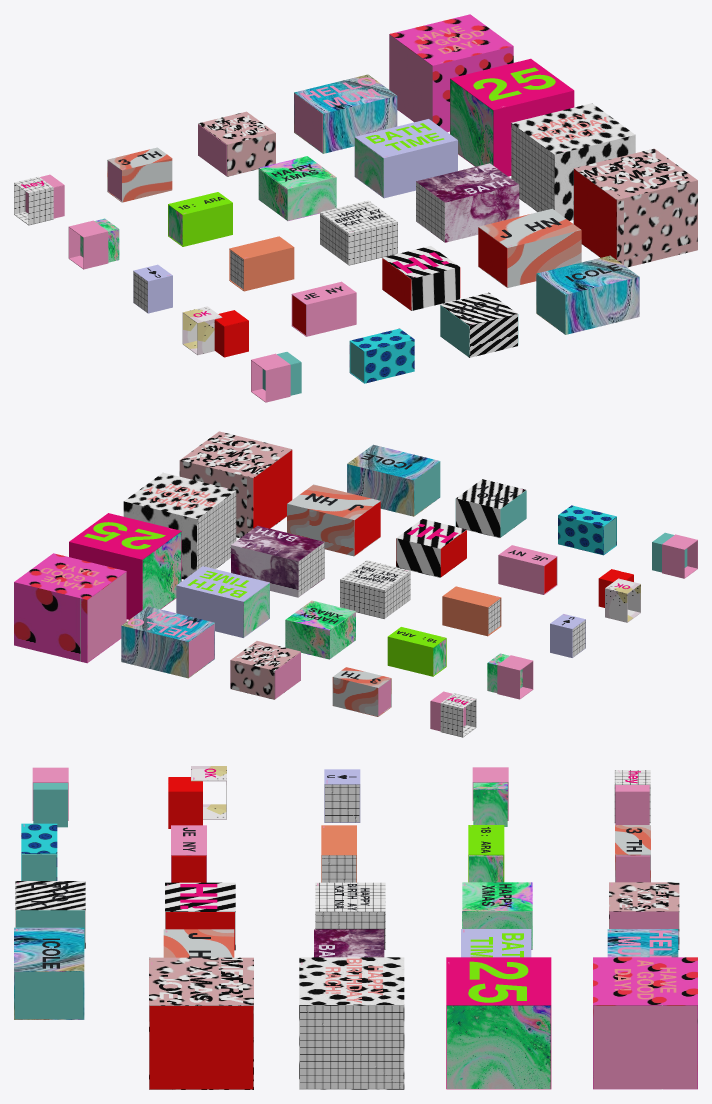
Rendered from Boxes.dae.
3 renders of one model, top to bottom at view 1: azimuth 30°, elevation 25°; view 2: azimuth 150°, elevation 25°; view 3: azimuth 270°, elevation 25°, orthographic. The views are drawn at different scales.
Parts seen in each view (by area): view 1: MIN#12, MIN#25, MIN#21, MIN#27, MIN#26, MIN#13, MIN#19, MIN#24, MIN#4, MIN#18, MIN#23, MIN#10 (+33 smaller); view 2: MIN#27, MIN#25, MIN#21, MIN#12, MIN#4, MIN#26, MIN#13, MIN#19, MIN#24, MAXI_EDXTRA#3, MIN#18, MIN#23 (+33 smaller); view 3: MAXI_EDXTRA#2, MAXI_EDXTRA#3, MAXI_EDXTRA#4, MAXI_EDXTRA, MIN#25, MIN#21, MIN#27, MIN#12, MAXI#1, MIN#26, MIN#18, MIN#23 (+39 smaller).
Boxes of the visible parts, <box> form: MIN#12: <box>573,148,697,267</box>; MIN#25: <box>450,58,574,176</box>; MIN#21: <box>511,103,635,220</box>; MIN#27: <box>389,14,513,132</box>; MIN#26: <box>536,255,639,334</box>; MIN#13: <box>478,208,581,287</box>; MIN#19: <box>416,163,519,242</box>; MIN#24: <box>354,119,457,198</box>; MIN#4: <box>294,74,397,153</box>; MIN#18: <box>320,200,397,265</box>; MIN#23: <box>258,156,336,220</box>; MIN#10: <box>440,292,517,357</box>; MIN#27: <box>14,553,126,663</box>; MIN#25: <box>69,513,181,619</box>; MIN#21: <box>123,472,236,579</box>; MIN#12: <box>179,431,292,537</box>; MIN#4: <box>121,606,214,678</box>; MIN#26: <box>347,444,440,516</box>; MIN#13: <box>287,484,380,556</box>; MIN#19: <box>231,525,324,597</box>; MIN#24: <box>176,566,269,637</box>; MAXI_EDXTRA#3: <box>87,572,126,662</box>; MIN#18: <box>340,560,410,618</box>; MIN#23: <box>285,600,355,659</box>; MAXI_EDXTRA#2: <box>149,1006,253,1089</box>; MAXI_EDXTRA#3: <box>593,1005,697,1088</box>; MAXI_EDXTRA#4: <box>300,1005,403,1088</box>; MAXI_EDXTRA: <box>447,1005,550,1088</box>; MIN#25: <box>446,957,551,1089</box>; MIN#21: <box>299,957,404,1089</box>; MIN#27: <box>593,957,697,1089</box>; MIN#12: <box>149,957,253,1089</box>; MAXI#1: <box>14,972,83,1018</box>; MIN#26: <box>14,927,84,1019</box>; MIN#18: <box>315,882,385,949</box>; MIN#23: <box>462,882,532,949</box>.
Bounding box in the file's own units: 1.95 × 1.98 × 0.2725.
21 materials, 11 textured.
